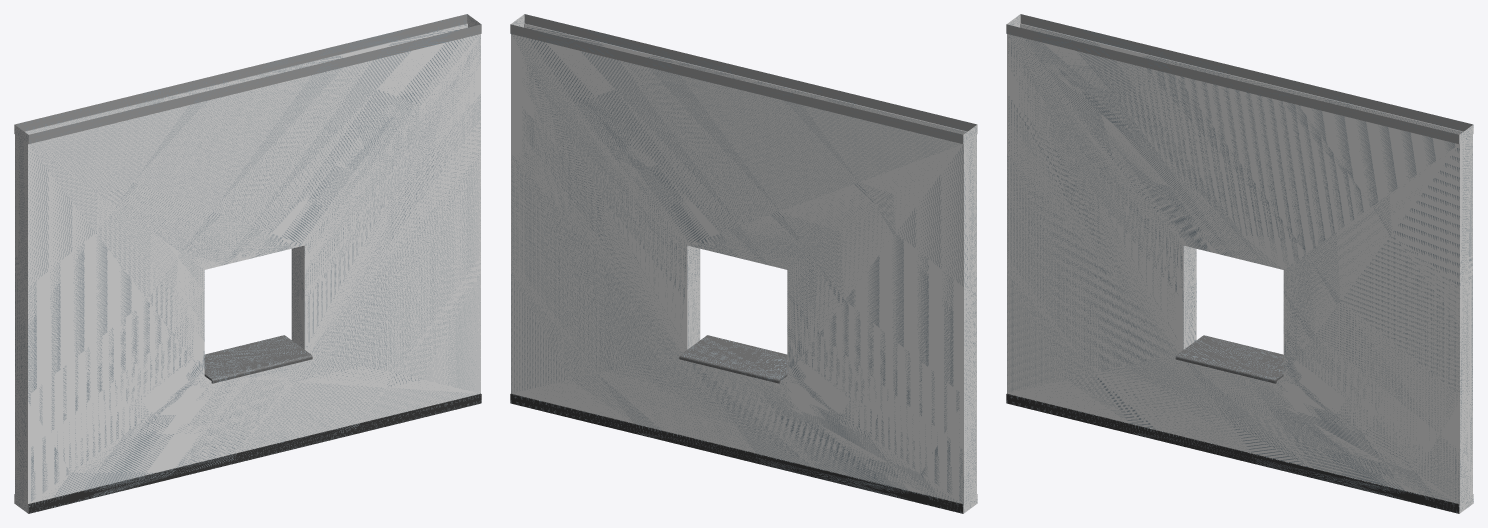
Rendered from BlockWall_Sluise_ds_plinth[500x400x025]_112x110x[100].dae.
The picture shows the model from 3 angles, left to right: view 1: azimuth 30°, elevation 25°; view 2: azimuth 150°, elevation 25°; view 3: azimuth 330°, elevation 25°; orthographic projection.
Parts seen in each view (by area): view 1: group_0 (×6); view 2: group_0 (×6); view 3: group_0 (×6).
Boxes of the visible parts, left/top/right/bottom form: group_0 (×6): left=14, top=14, right=481, bottom=513; group_0 (×6): left=510, top=14, right=977, bottom=513; group_0 (×6): left=1006, top=14, right=1473, bottom=513.
Bounding box in the file's own units: 197 × 21.65 × 157.
